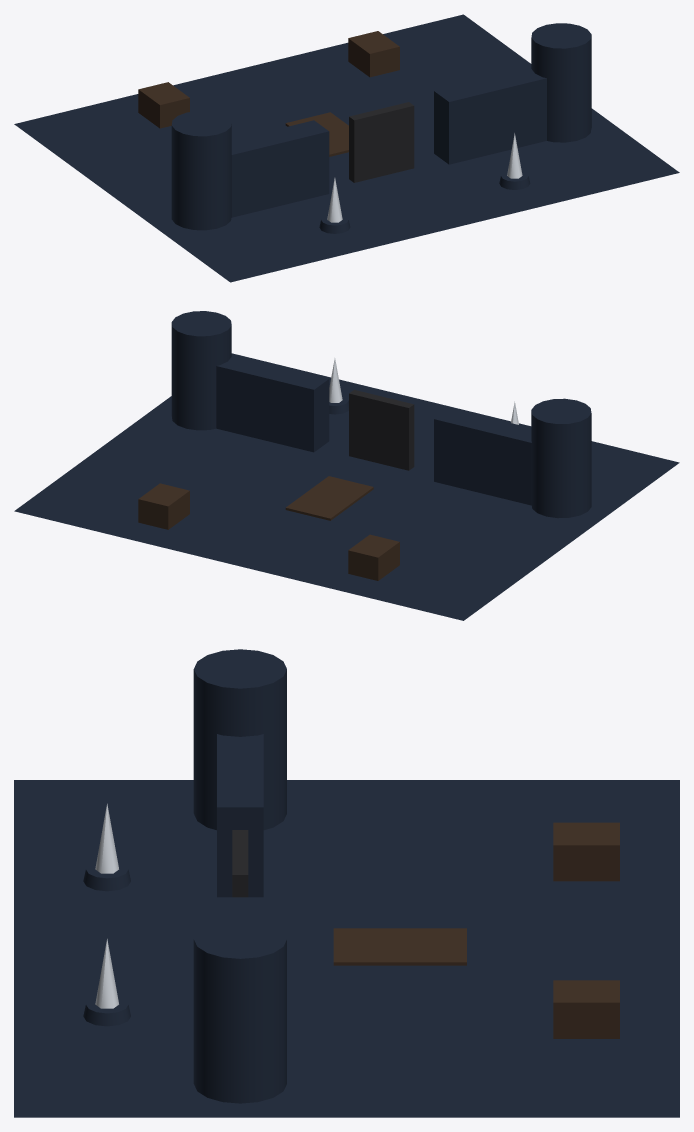
The model's file is vol_01.glb.
3 views of the same model, one above another, from view 1: azimuth 30°, elevation 25°; view 2: azimuth 150°, elevation 25°; view 3: azimuth 270°, elevation 25° (orthographic). The views are drawn at different scales.
Parts seen in each view (by area): view 1: scenario_base_floor, VOL_01; view 2: scenario_base_floor, VOL_01; view 3: scenario_base_floor, VOL_01.
Boxes of the visible parts, bbox=[...] form: scenario_base_floor: bbox=[14, 14, 679, 282]; VOL_01: bbox=[138, 23, 591, 233]; scenario_base_floor: bbox=[14, 353, 679, 620]; VOL_01: bbox=[138, 311, 591, 580]; scenario_base_floor: bbox=[14, 780, 679, 1117]; VOL_01: bbox=[83, 649, 619, 1103].
Bounding box in the file's own units: 60 × 13.2 × 50.
